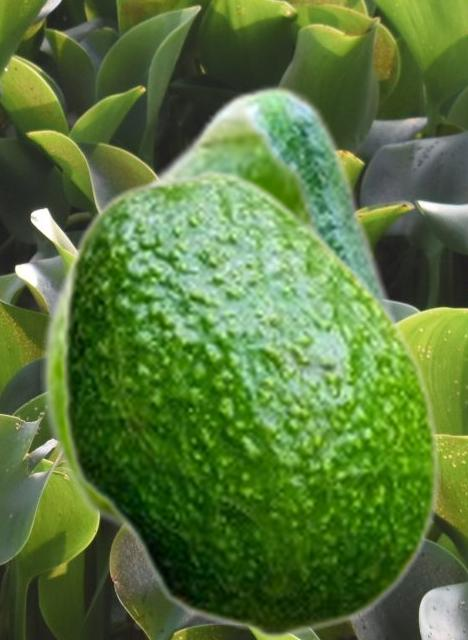avocado: (58, 167, 439, 638), (40, 95, 334, 544), (187, 84, 407, 334)
